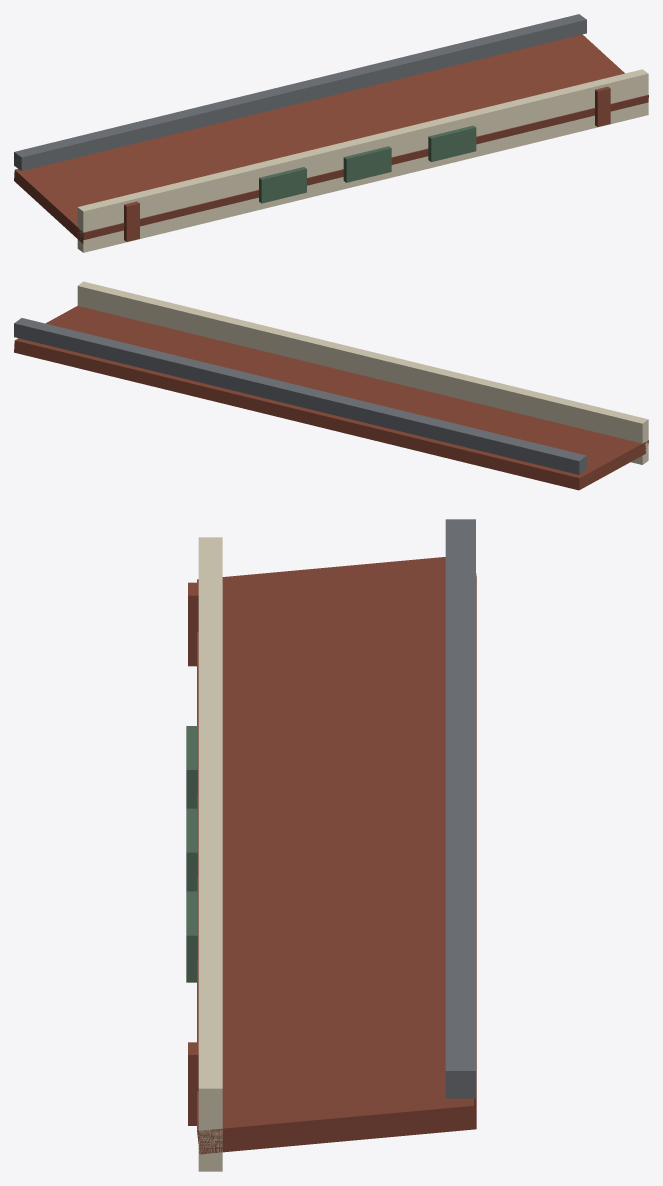
The model's file is building-shop-awning-sign.glb.
3 views of the same model, one above another, from view 1: azimuth 30°, elevation 25°; view 2: azimuth 150°, elevation 25°; view 3: azimuth 270°, elevation 25° (orthographic). The views are drawn at different scales.
Parts seen in each view (by area): view 1: frontage; view 2: frontage; view 3: frontage.
Part boxes in pixels (box(x1,y1,x2,y2)): frontage: box(14, 14, 648, 252); frontage: box(14, 281, 648, 490); frontage: box(186, 519, 476, 1171).
Bounding box in the file's own units: 3 × 0.255 × 0.6674.
